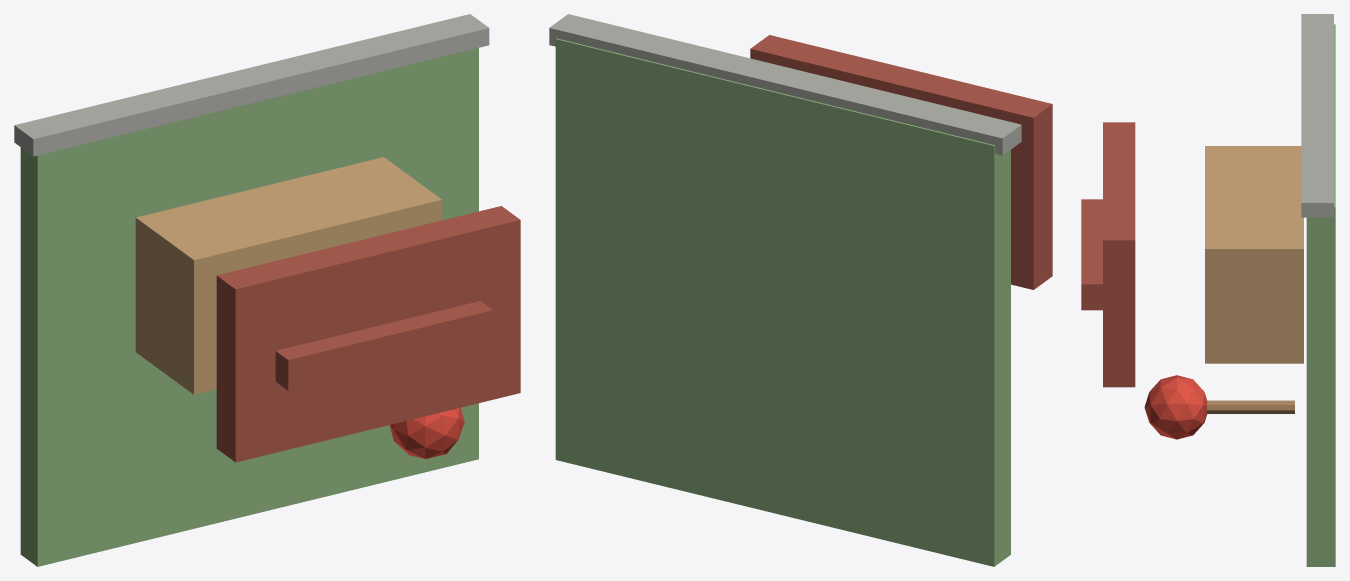
The model's file is 15_TraiHuanLuyen.glb.
3 views of the same model, side by side, from view 1: azimuth 30°, elevation 25°; view 2: azimuth 150°, elevation 25°; view 3: azimuth 270°, elevation 25° (orthographic). The views are drawn at different scales.
Parts seen in each view (by area): view 1: base, roof, hall, edge, ridge, target; view 2: base, roof, edge; view 3: hall, base, roof, edge, target, ridge, dummy.
Boxes of the visible parts, bbox=[...] form: base: bbox=[20, 48, 478, 566]; roof: bbox=[216, 206, 520, 462]; hall: bbox=[135, 157, 442, 394]; edge: bbox=[14, 14, 489, 156]; ridge: bbox=[275, 301, 493, 390]; target: bbox=[389, 407, 464, 458]; base: bbox=[555, 38, 1010, 566]; roof: bbox=[750, 35, 1052, 289]; edge: bbox=[549, 14, 1021, 155]; hall: bbox=[1205, 146, 1303, 363]; base: bbox=[1306, 24, 1335, 566]; roof: bbox=[1103, 122, 1135, 387]; edge: bbox=[1301, 14, 1333, 217]; target: bbox=[1144, 375, 1207, 439]; ridge: bbox=[1081, 199, 1102, 310]; dummy: bbox=[1206, 400, 1294, 413].
Bounding box in the file's own units: 2.48 × 2.25 × 1.41.
